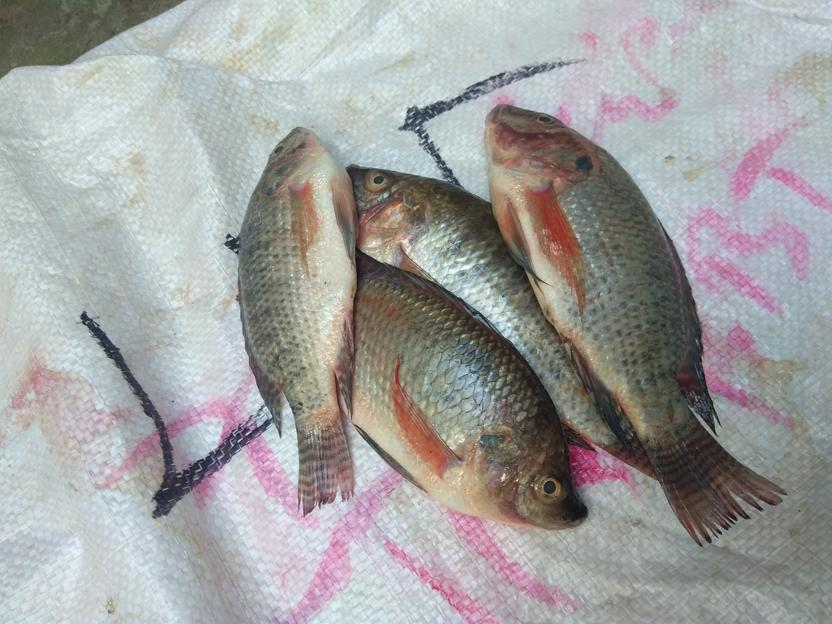Fish head: (459, 426, 589, 533), (483, 104, 597, 194), (344, 162, 436, 249), (256, 127, 337, 198)
Fish tail: (643, 418, 789, 549), (292, 410, 355, 519)
